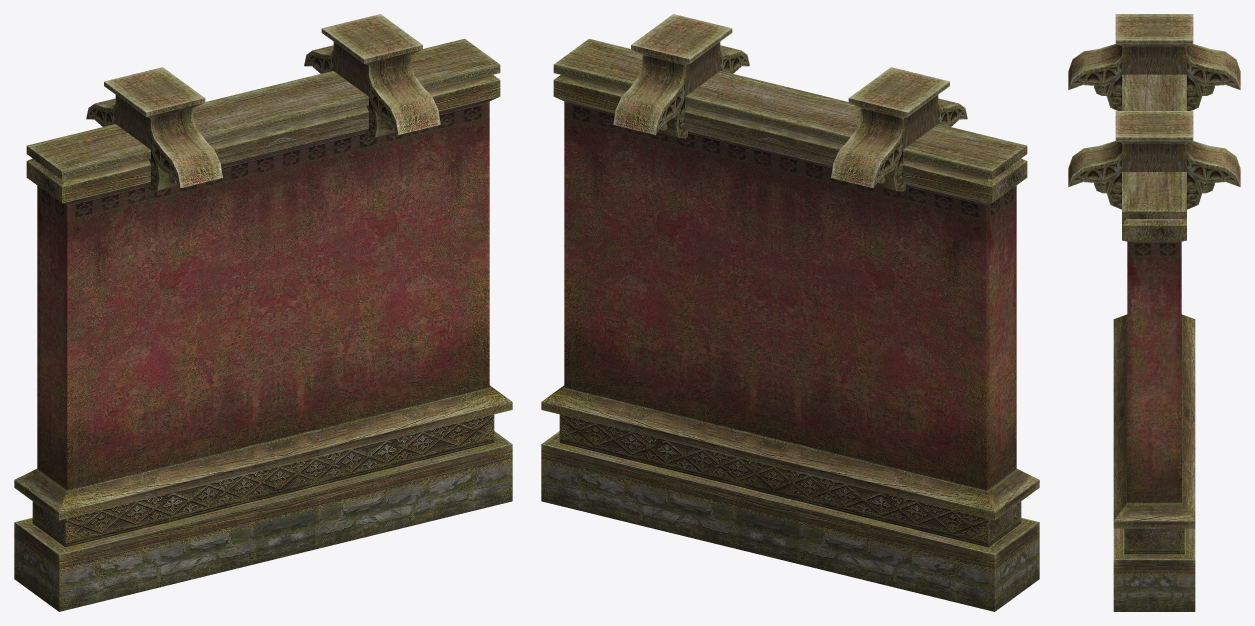
File: fortressa_wall_a_00.glb
3 renders of one model, left to right at view 1: azimuth 30°, elevation 25°; view 2: azimuth 150°, elevation 25°; view 3: azimuth 270°, elevation 25°, orthographic. The views are drawn at different scales.
Parts seen in each view (by area): view 1: fortressA_wall_A_00; view 2: fortressA_wall_A_00; view 3: fortressA_wall_A_00.
Boxes of the visible parts, x1=… form: fortressA_wall_A_00: x1=14, y1=14, x2=512, y2=611; fortressA_wall_A_00: x1=541, y1=14, x2=1039, y2=611; fortressA_wall_A_00: x1=1068, y1=14, x2=1240, y2=611.
Bounding box in the file's own units: 13.79 × 13.86 × 4.97.
Materials: 1 (1 with a texture image).
